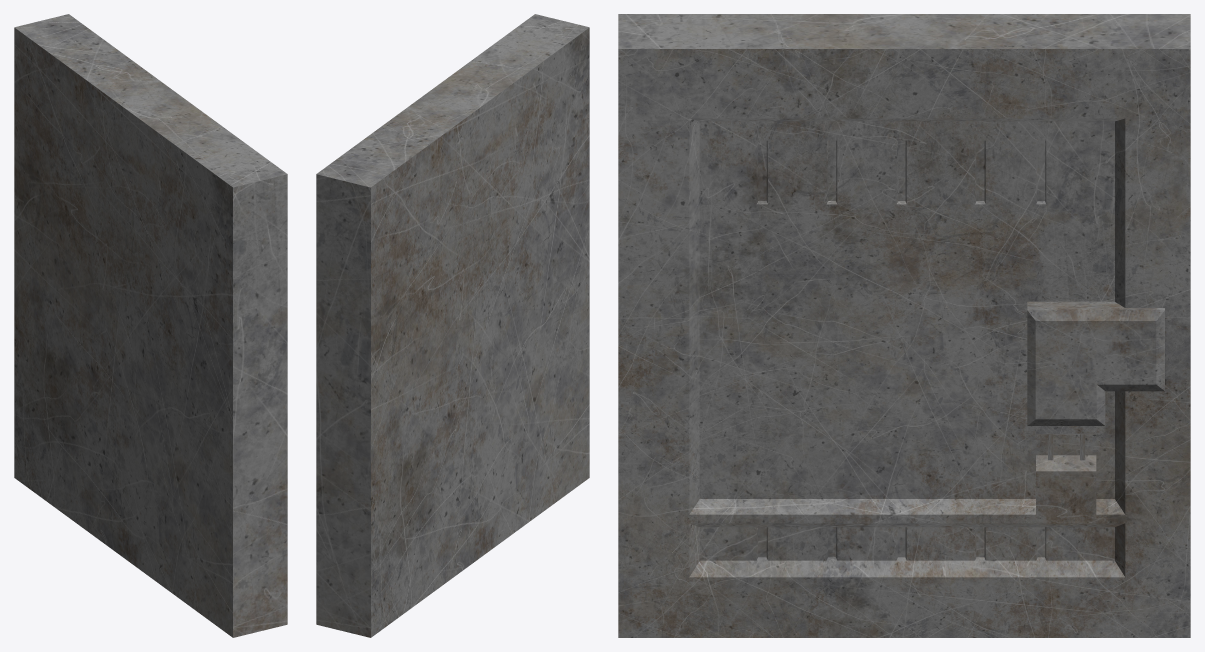
File: puertaprincipio.fbx
3 views of the same model, side by side, from view 1: azimuth 30°, elevation 25°; view 2: azimuth 150°, elevation 25°; view 3: azimuth 270°, elevation 25° (orthographic). The views are drawn at different scales.
Parts seen in each view (by area): view 1: Base; view 2: Base; view 3: Base, Cerradura.
Part boxes in pixels (x1=…): Base: x1=14, y1=14, x2=287, y2=637; Base: x1=316, y1=14, x2=589, y2=637; Base: x1=618, y1=14, x2=1190, y2=637; Cerradura: x1=1027, y1=301, x2=1164, y2=434.
Bounding box in the file's own units: 30.59 × 216 × 190.
